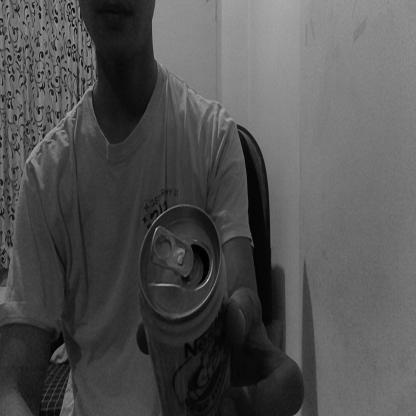alumunium_can: (138, 199, 232, 416)
